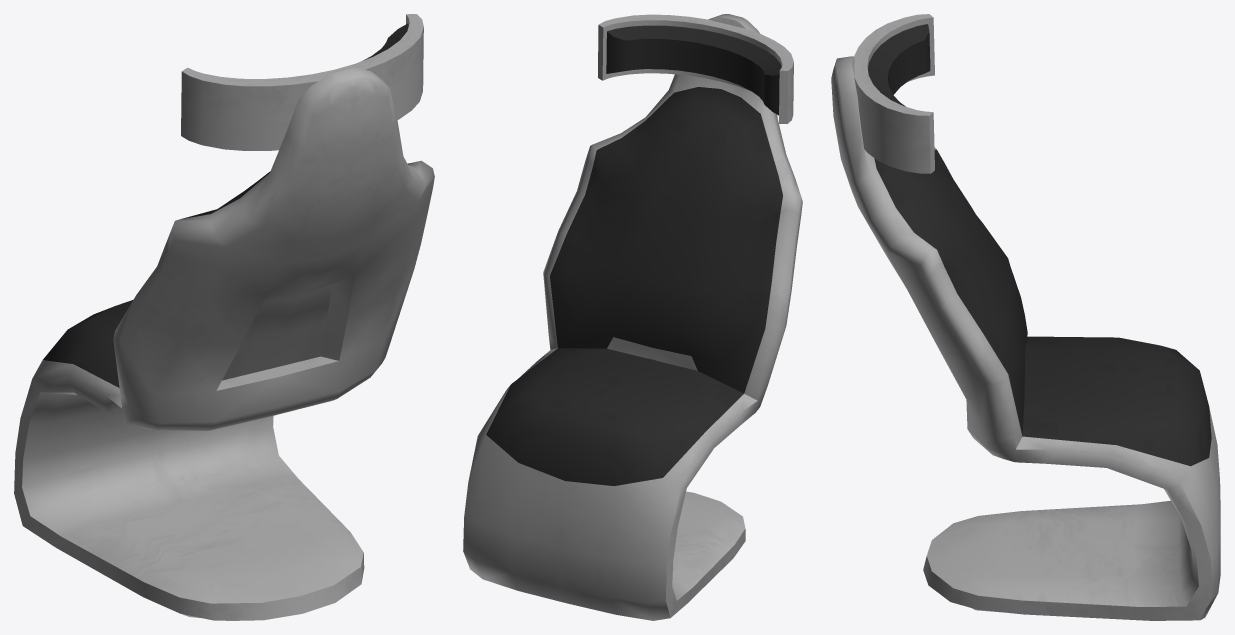
The model's file is scifi-chair.glb.
3 views of the same model, side by side, from view 1: azimuth 30°, elevation 25°; view 2: azimuth 150°, elevation 25°; view 3: azimuth 270°, elevation 25° (orthographic). The views are drawn at different scales.
Visible parts, largest first — view 1: Prop_Chair; view 2: Prop_Chair; view 3: Prop_Chair.
Part boxes in pixels (x1,y1,x2,y2): Prop_Chair: (14,14,434,620); Prop_Chair: (463,14,802,620); Prop_Chair: (831,14,1220,620).
Bounding box in the file's own units: 0.8807 × 1.64 × 1.12.
2 materials, 2 textured.
